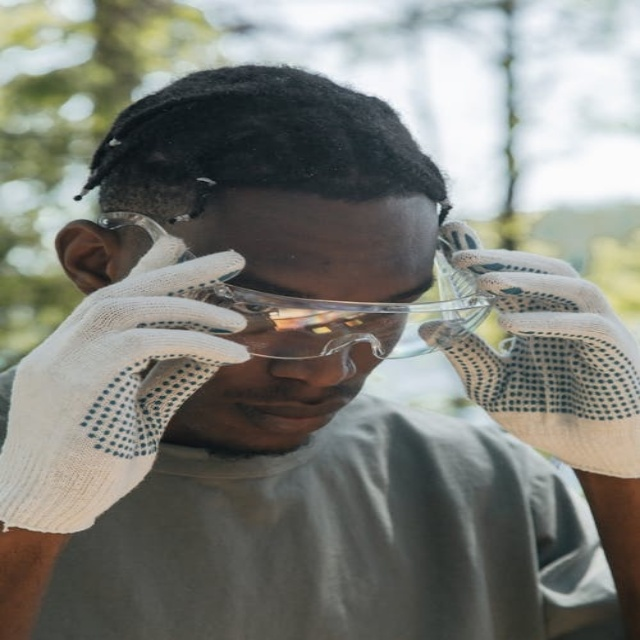Gafas: (98, 212, 501, 360)
Guantes: (0, 222, 257, 538), (417, 225, 638, 483)
Sin_mascara: (211, 385, 361, 457)
